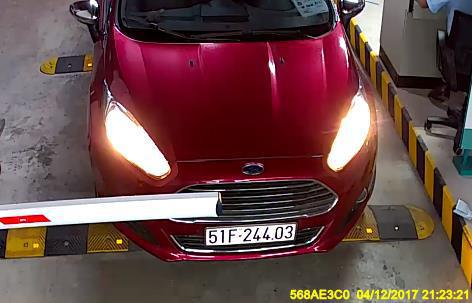License_Plate: (198, 221, 306, 248)
